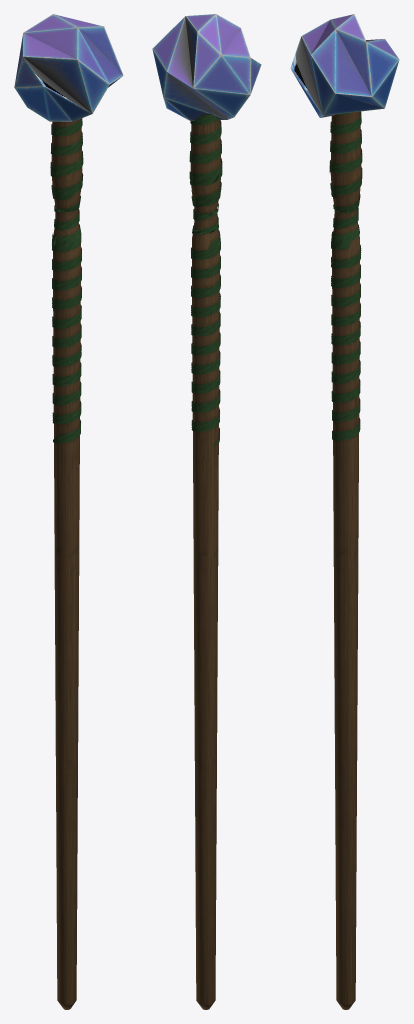
Rendered from staff1__.fbx.
3 views of the same model, side by side, from view 1: azimuth 30°, elevation 25°; view 2: azimuth 150°, elevation 25°; view 3: azimuth 330°, elevation 25° (orthographic).
Parts seen in each view (by area): view 1: Cylinder, Sphere, Plane; view 2: Cylinder, Sphere, Plane; view 3: Cylinder, Sphere, Plane.
Boxes of the visible parts, x1,y1,x2,y2 form: Cylinder: (51, 119, 82, 1009); Sphere: (14, 14, 123, 121); Plane: (50, 118, 83, 443); Cylinder: (190, 114, 221, 1009); Sphere: (152, 14, 261, 120); Plane: (189, 113, 222, 446); Cylinder: (330, 111, 361, 1009); Sphere: (290, 14, 399, 117); Plane: (329, 111, 362, 441).
Size of the model in its own units: 15.46 by 154 by 15.38.
